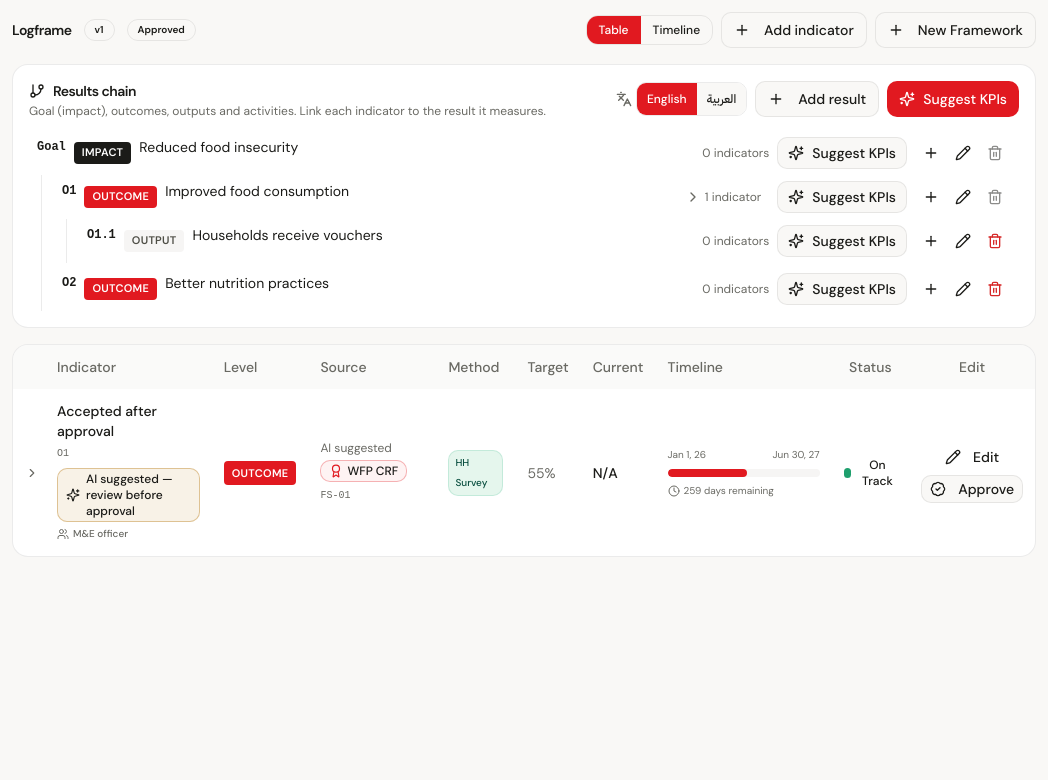
Test case: IndicatorTable › lets an org admin approve an unapproved indicator of an approved framework
Click the button with aria-label "Approve Accepted after approval". click: (972, 488)
box: [921, 474, 1023, 502]
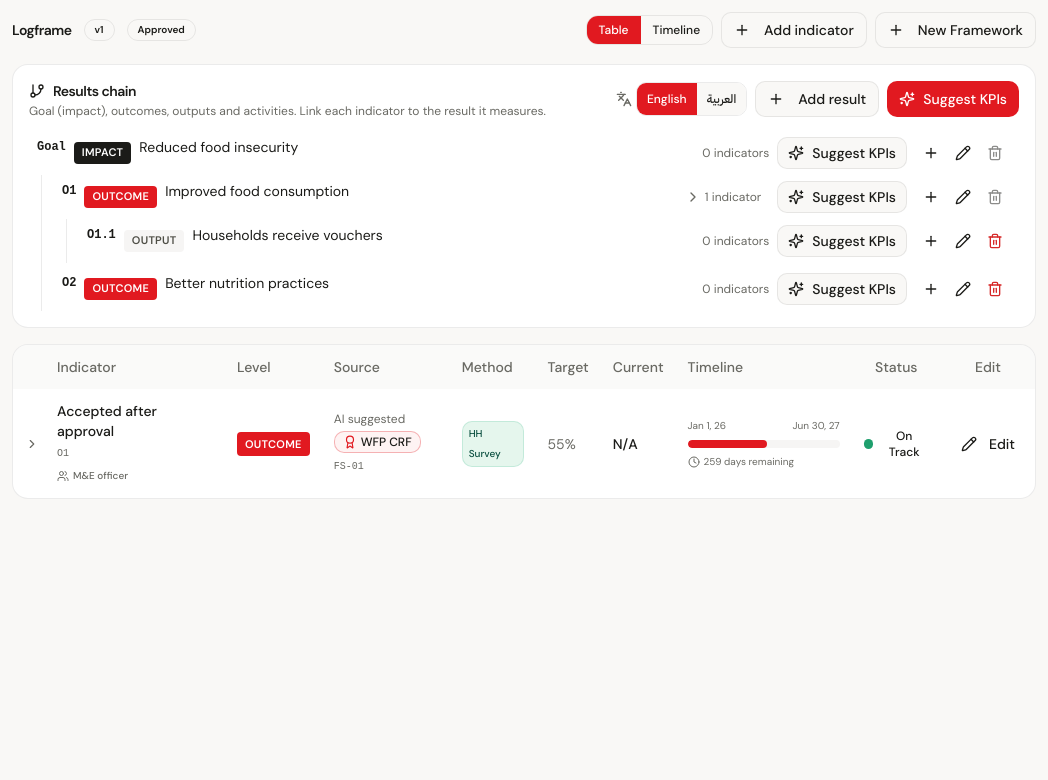
Check: the text "AI suggested — review before approval" is gone
